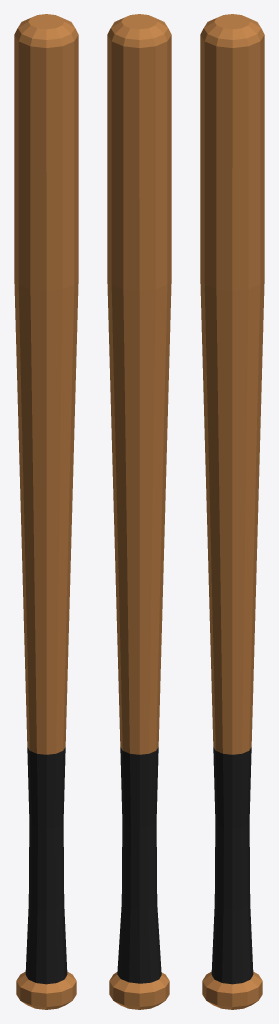
The model's file is Kij baseballowy low.fbx.
The picture shows the model from 3 angles, left to right: view 1: azimuth 90°, elevation 25°; view 2: azimuth 150°, elevation 25°; view 3: azimuth 270°, elevation 25°; orthographic projection.
Visible parts, largest first — view 1: Cylinder; view 2: Cylinder; view 3: Cylinder.
Boxes of the visible parts, box(x1,y1,x2,y2) form: Cylinder: box(14, 14, 78, 1009); Cylinder: box(107, 14, 171, 1009); Cylinder: box(200, 14, 264, 1009).
Size of the model in its own units: 5.16 by 86.56 by 5.16.
